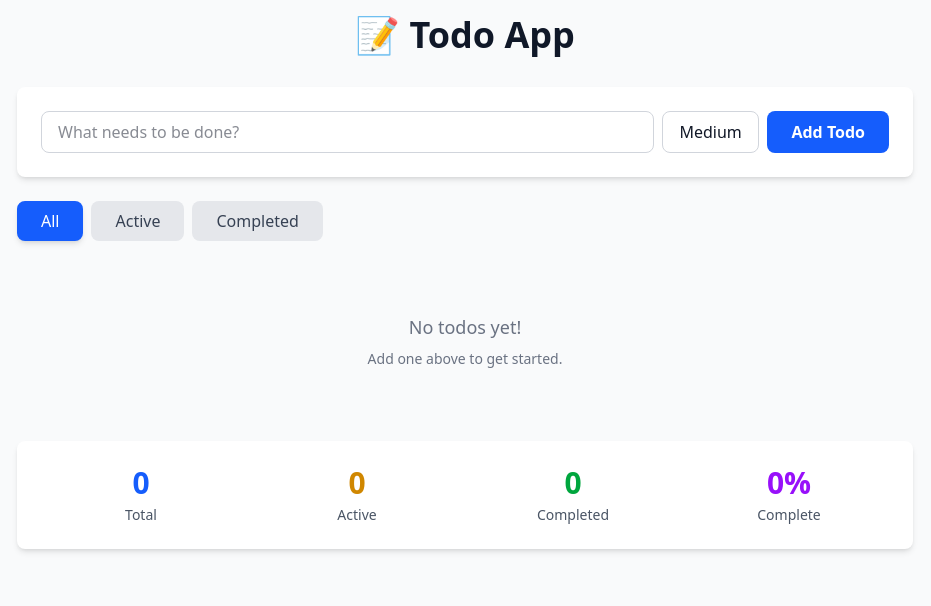
Todo App - Integration Tests › Filter Workflows › filters show all todos
Step 1. Type "First" into the field → (348, 132), box [58, 120, 638, 144]
Step 2. Click the button "Add Todo" → (828, 132), box [768, 111, 889, 153]
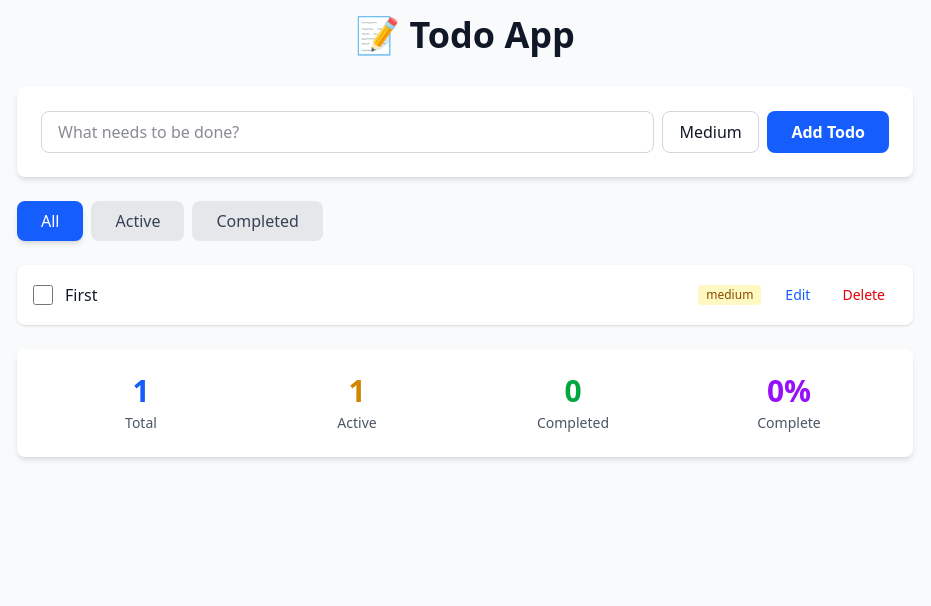
Result: the text "First" is shown at [65, 284, 98, 306]
Step 3. Type "Second" into the field → (348, 132), box [58, 120, 638, 144]
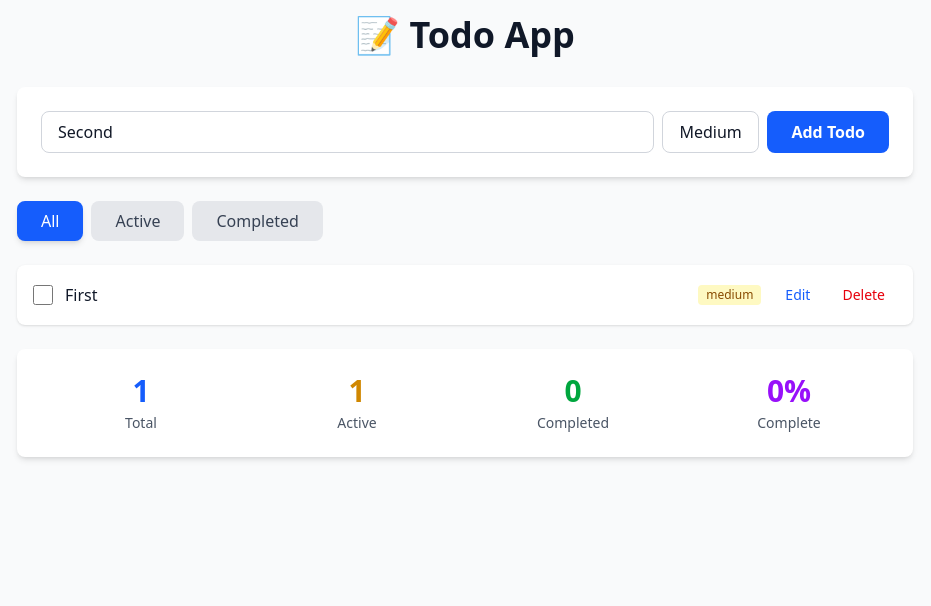
Step 4. Click the button "Add Todo" → (828, 132), box [768, 111, 889, 153]
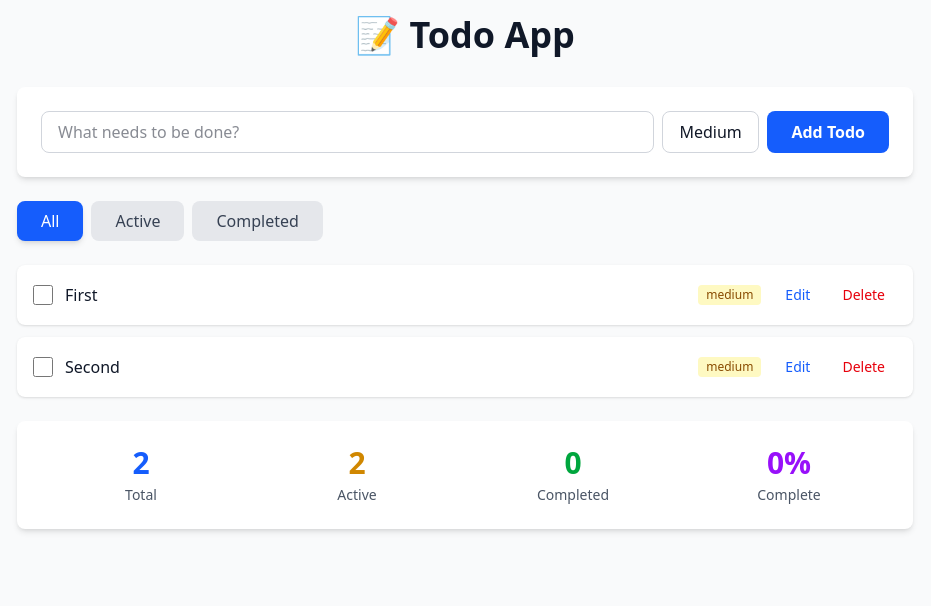
Result: the text "Second" is shown at [65, 356, 120, 378]
Note: Complete one
Step 5. Click the checkbox with test id "todo-checkbox" → (43, 295), box [33, 285, 53, 305]
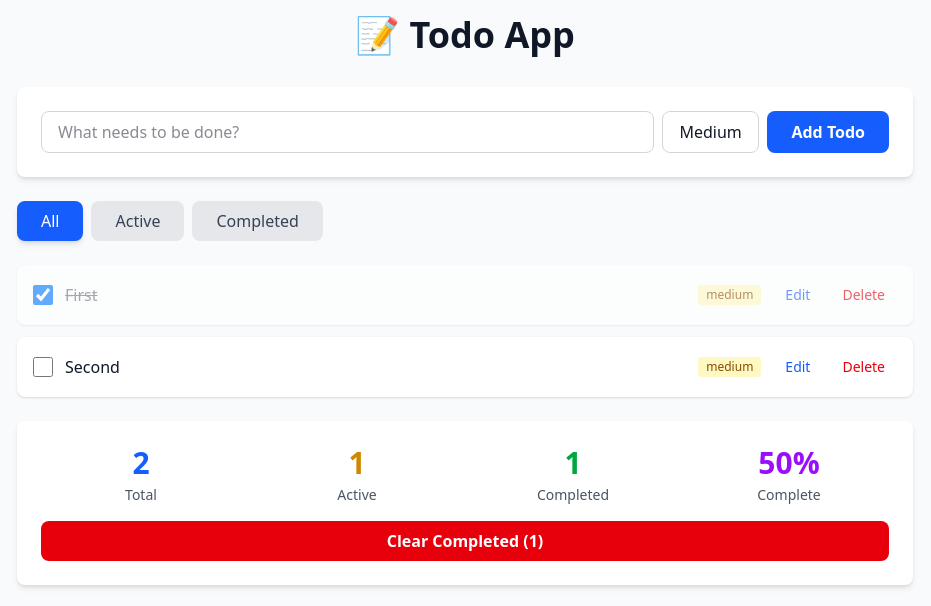
Step 6. Click the button "Active" → (138, 221), box [92, 201, 184, 241]
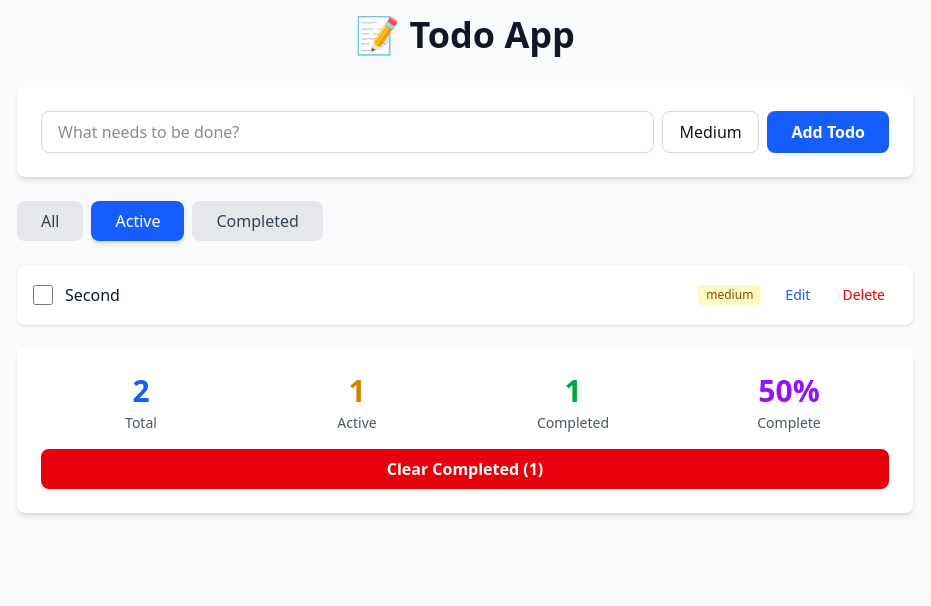
Note: Now switch back to All
Step 7. Click the button "All" → (50, 221), box [17, 201, 84, 241]
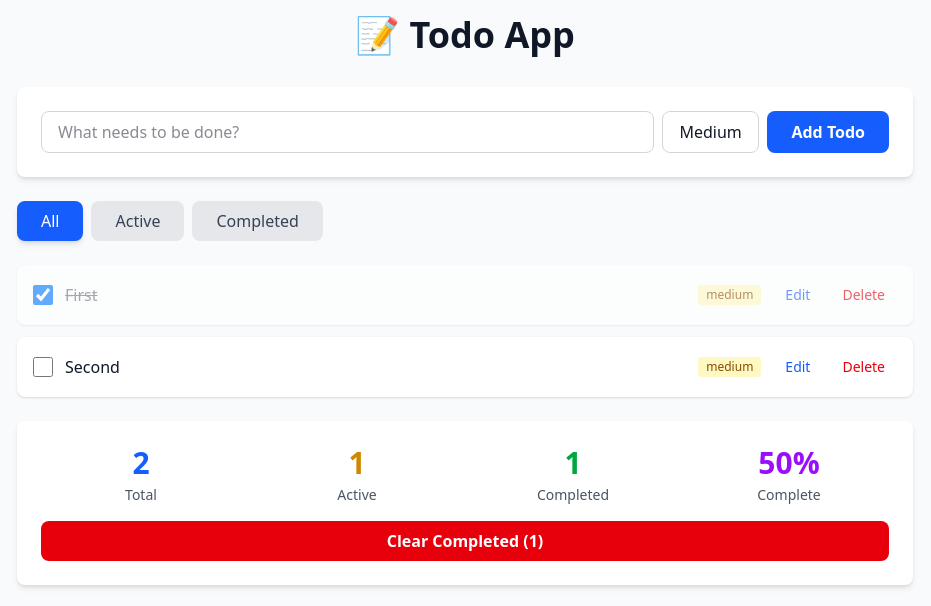
Result: the text "Second" is shown at [65, 356, 120, 378]
Result: the text "First" is shown at [65, 284, 98, 306]
